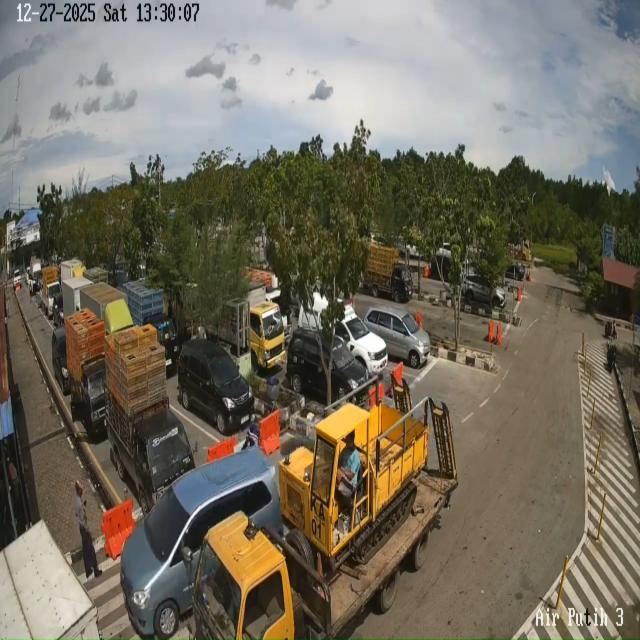Golongan IVA: (120, 447, 282, 640), (177, 338, 255, 435), (286, 327, 370, 401), (364, 306, 430, 368), (462, 273, 506, 308), (51, 326, 70, 395)
Golongan IVB: (107, 392, 195, 518), (65, 350, 111, 441), (363, 243, 413, 303)
Golongan VB: (192, 385, 458, 640)
